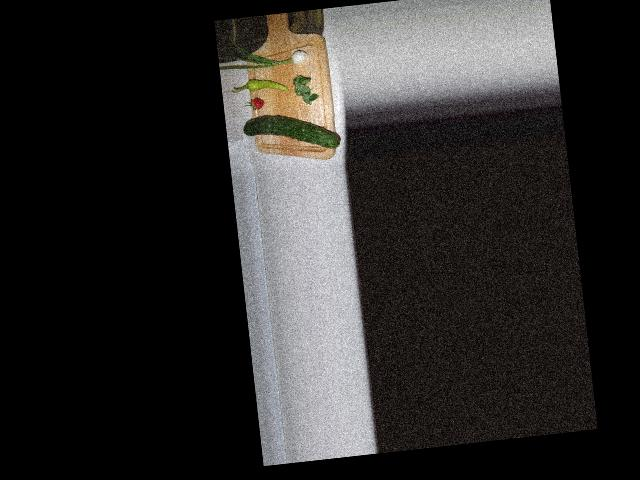cucumber: (242, 108, 340, 158)
